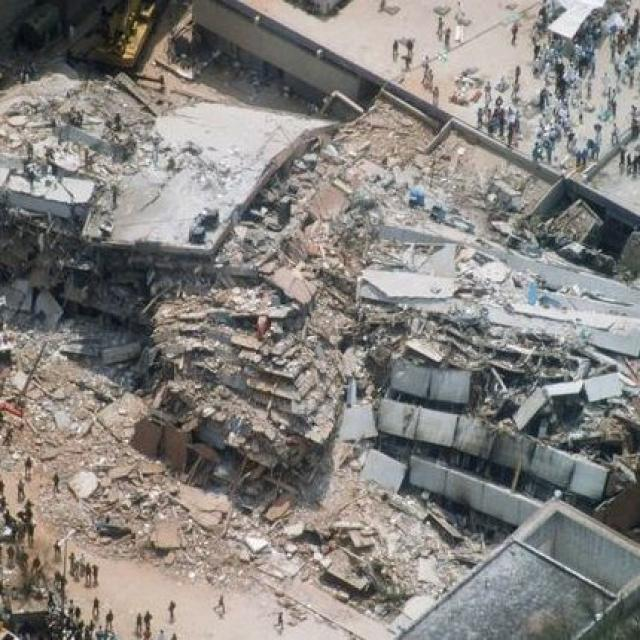collapsed_building: (6, 125, 638, 541)
